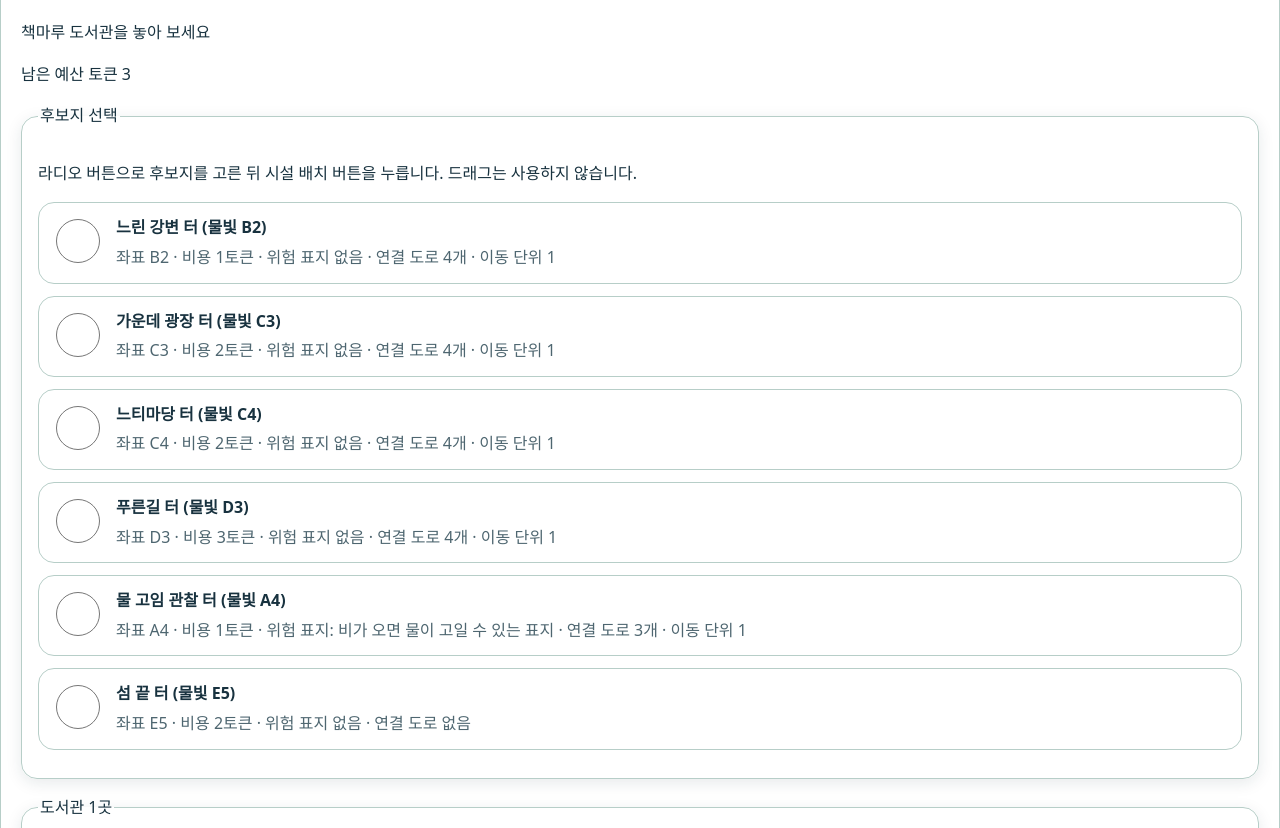
Test: FacilityPlacementPanel › names the selected slot with its facility and coordinate
Click the 1st radio button: x=78, y=242 x1=56 y1=220 x2=100 y2=264
(page scrolled)
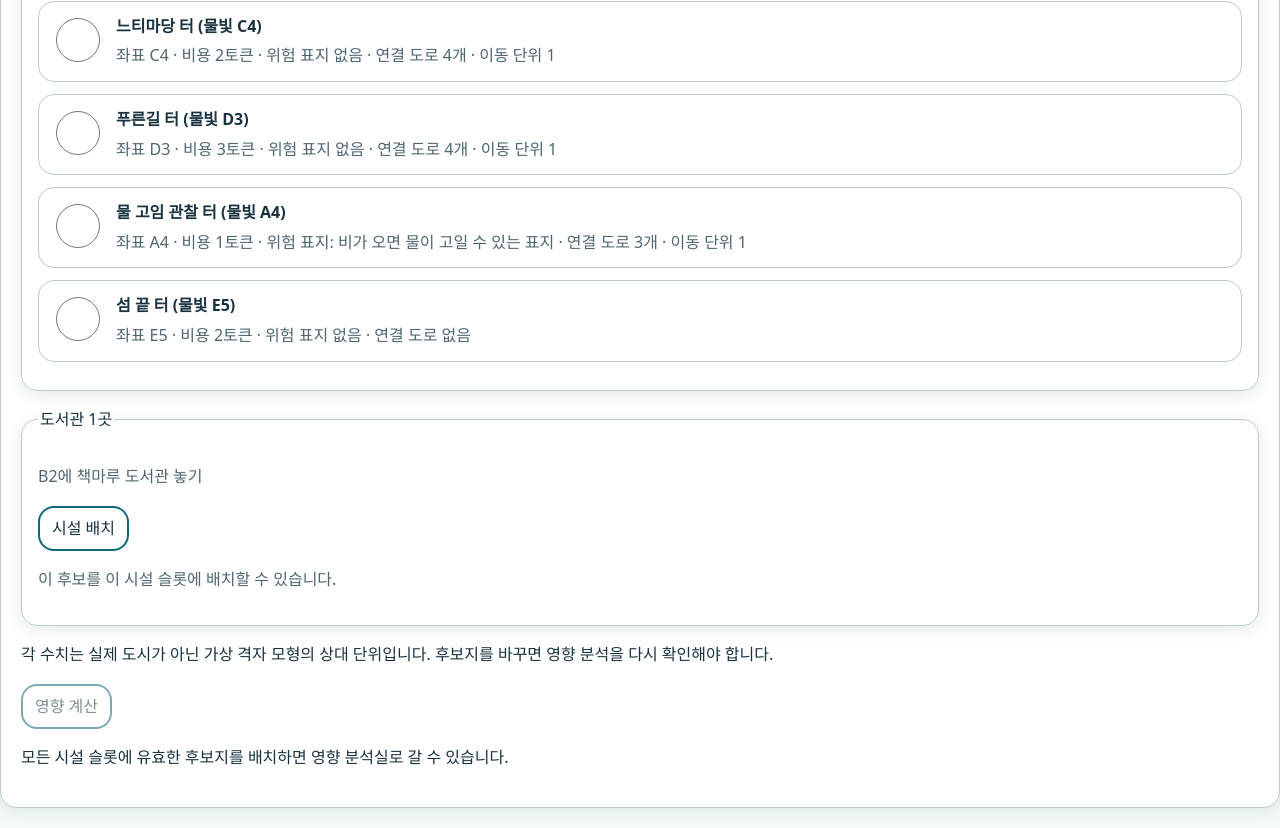
Now the button "시설 배치" is shown, box x1=38 y1=506 x2=129 y2=551
